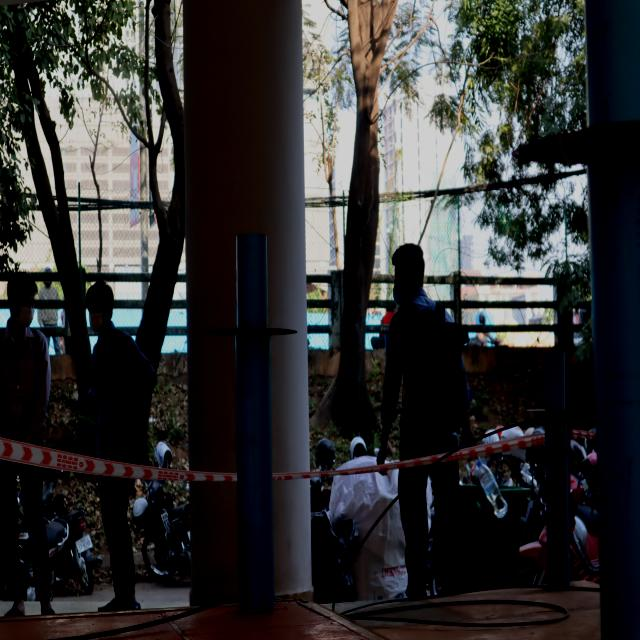pole: (204, 230, 300, 422), (526, 358, 586, 474)
